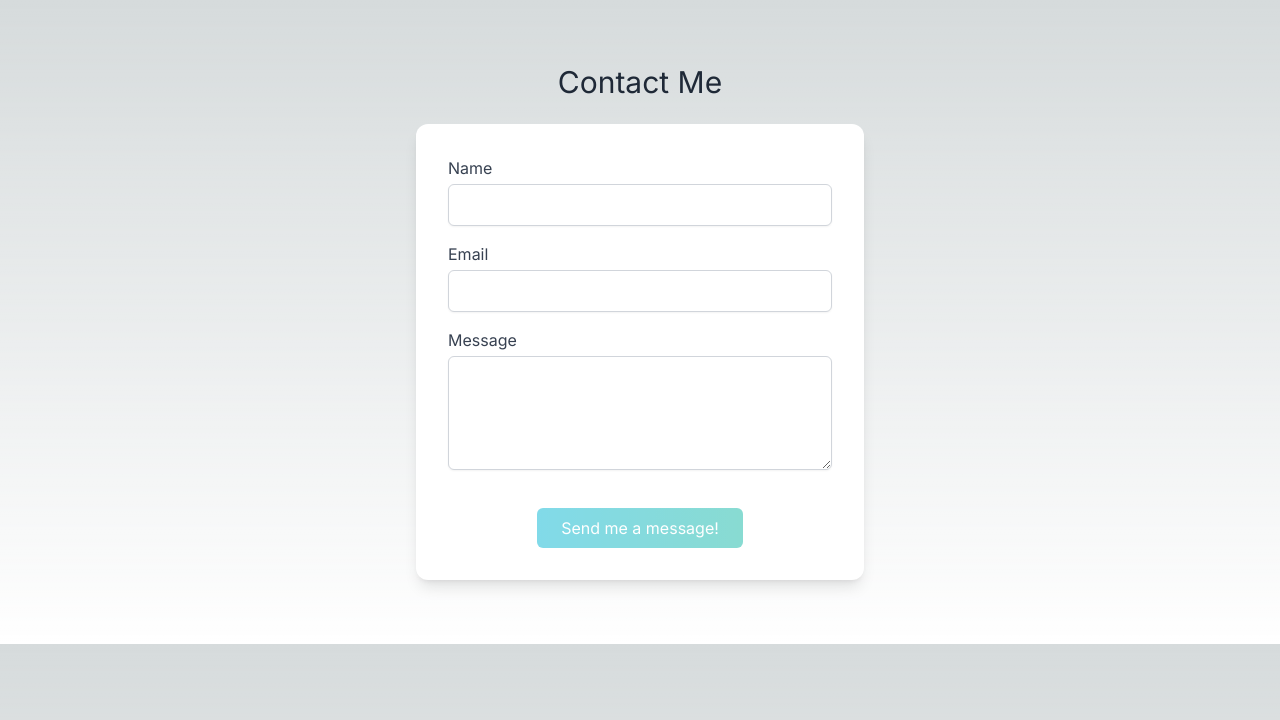
Test case: Contact Component › validates email form field correctly
In the field labelled "Email": (640, 291) [448, 270, 832, 312], type "invalid email"
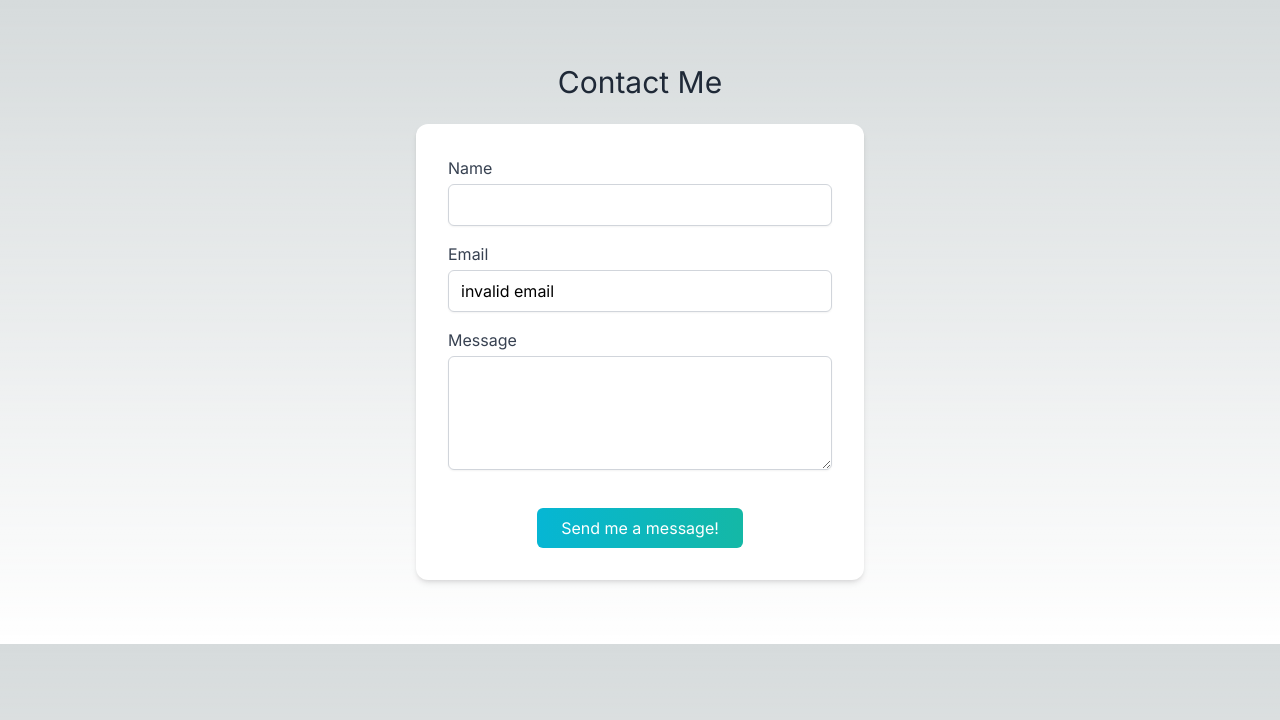
Leave the field labelled "Email", box [448, 270, 832, 312]
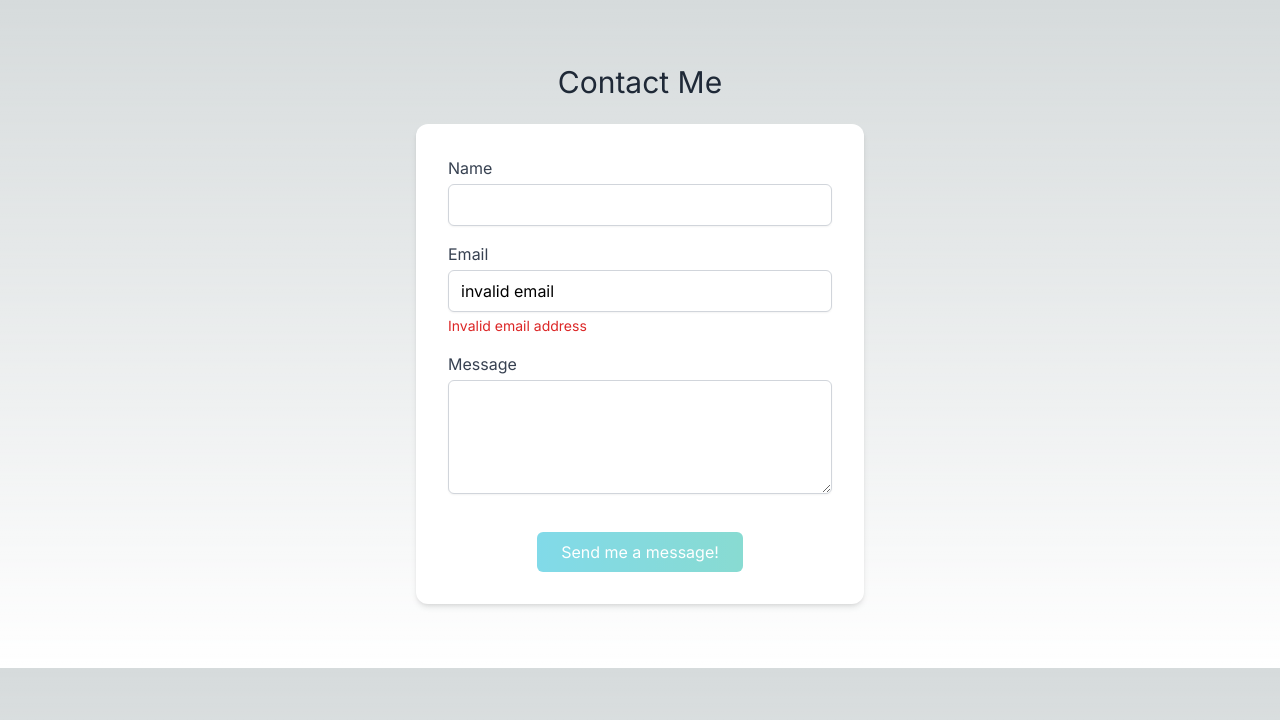
Result: the text "Invalid email address" is shown at [448, 317, 587, 334]
